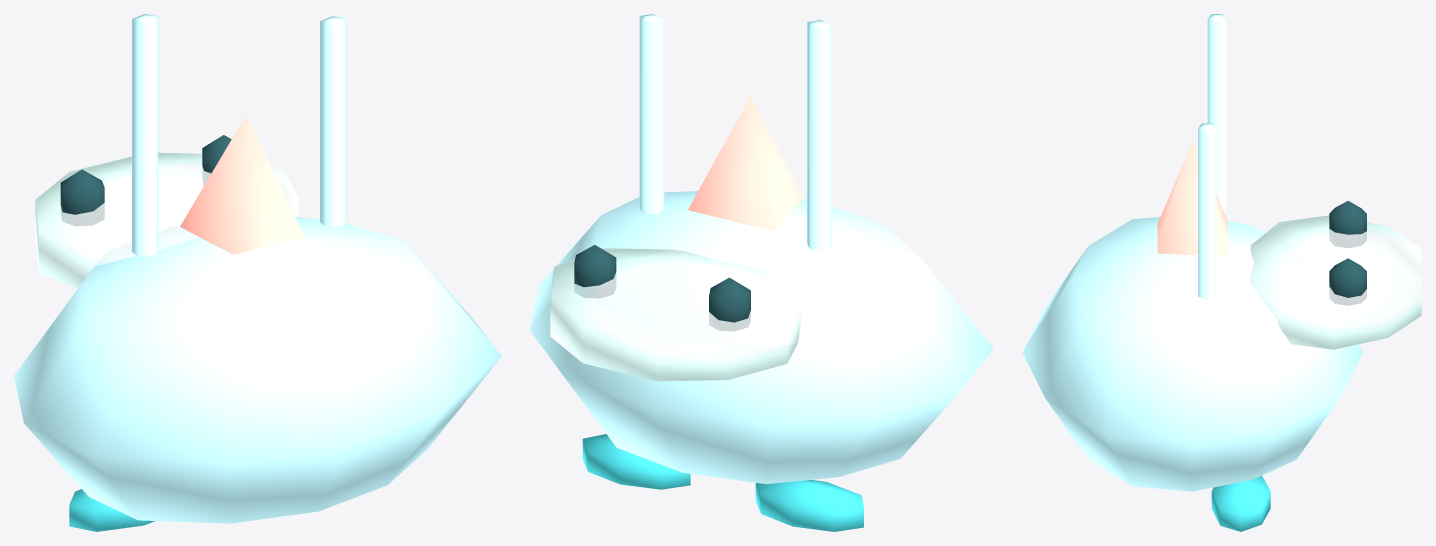
File: creature_hurt.glb
3 renders of one model, left to right at view 1: azimuth 30°, elevation 25°; view 2: azimuth 150°, elevation 25°; view 3: azimuth 270°, elevation 25°, orthographic. The views are drawn at different scales.
Visible parts, largest first — view 1: creature_hurt; view 2: creature_hurt; view 3: creature_hurt.
Part boxes in pixels (<box>): creature_hurt: <box>14,14,501,531</box>; creature_hurt: <box>530,14,993,531</box>; creature_hurt: <box>1022,14,1421,531</box>.
Size of the model in its own units: 0.9154 by 1 by 0.8543.
